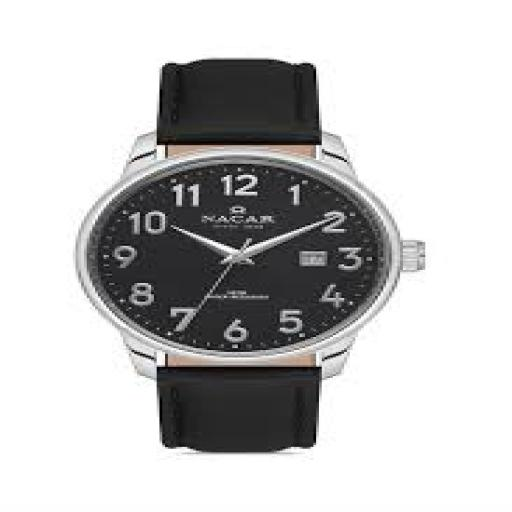KolSaati: (68, 37, 452, 463)
